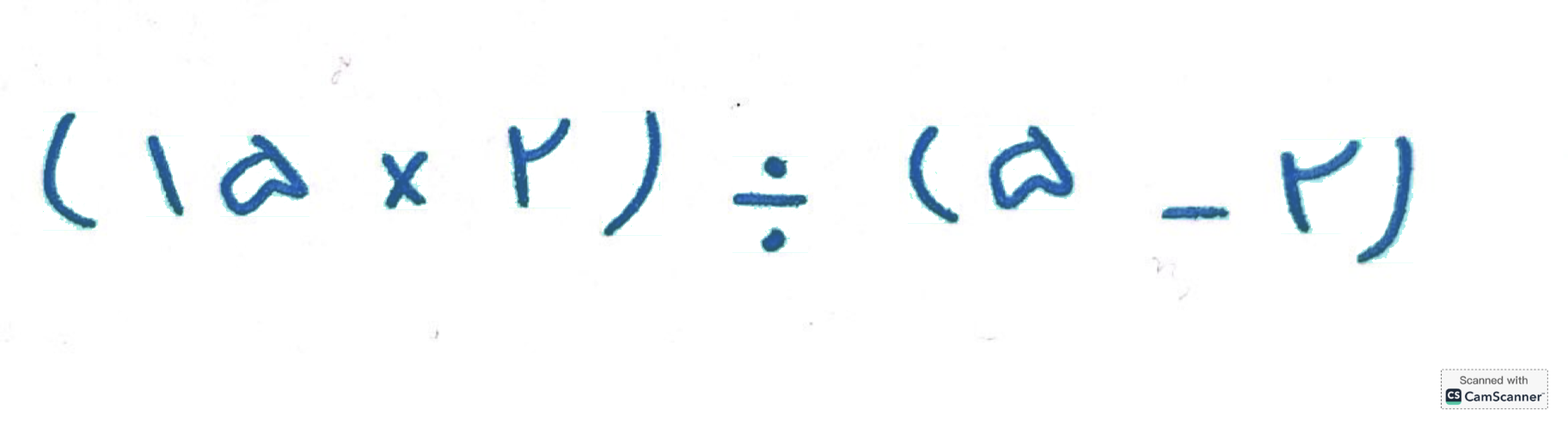character: (213, 242, 368, 422), (623, 293, 839, 422), (1407, 309, 1568, 422), (445, 270, 520, 422), (1091, 422, 1236, 422)
